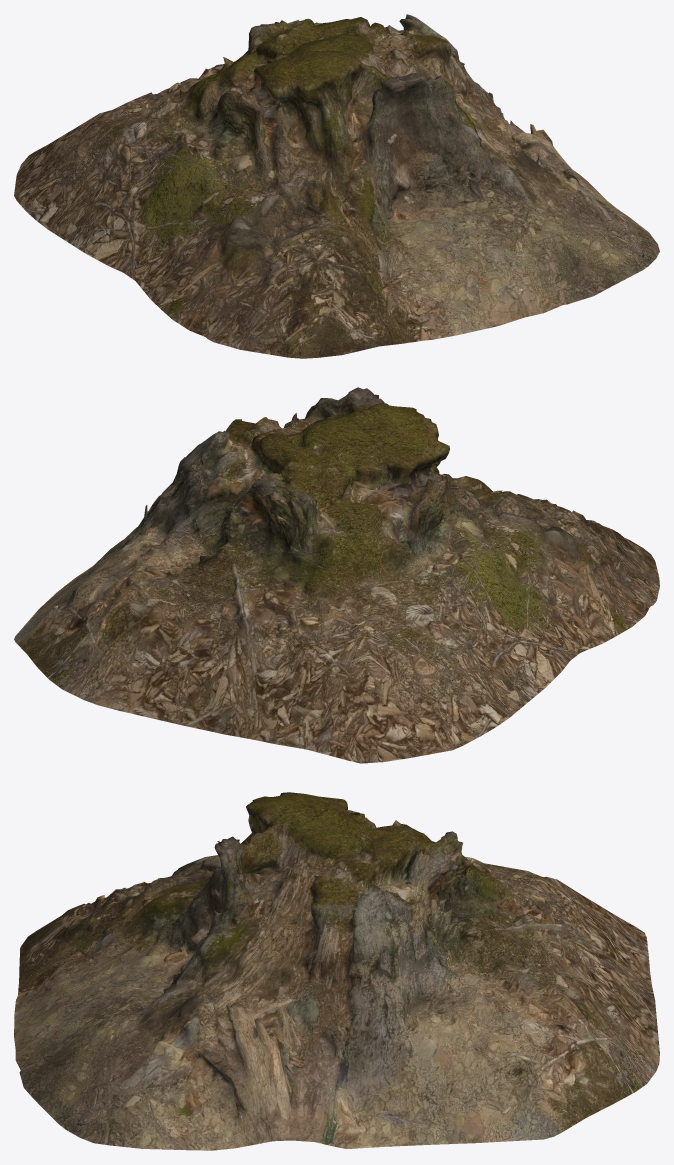
The model's file is yd_tree_stump_01.glb.
3 views of the same model, one above another, from view 1: azimuth 30°, elevation 25°; view 2: azimuth 150°, elevation 25°; view 3: azimuth 270°, elevation 25° (orthographic). The views are drawn at different scales.
Parts seen in each view (by area): view 1: tree_stump_01; view 2: tree_stump_01; view 3: tree_stump_01.
Boxes of the visible parts, x1=… form: tree_stump_01: x1=14, y1=14, x2=659, y2=358; tree_stump_01: x1=14, y1=387, x2=659, y2=763; tree_stump_01: x1=14, y1=792, x2=659, y2=1150.
Bounding box in the file's own units: 1.43 × 0.5725 × 1.59.
Materials: 1 (1 with a texture image).
